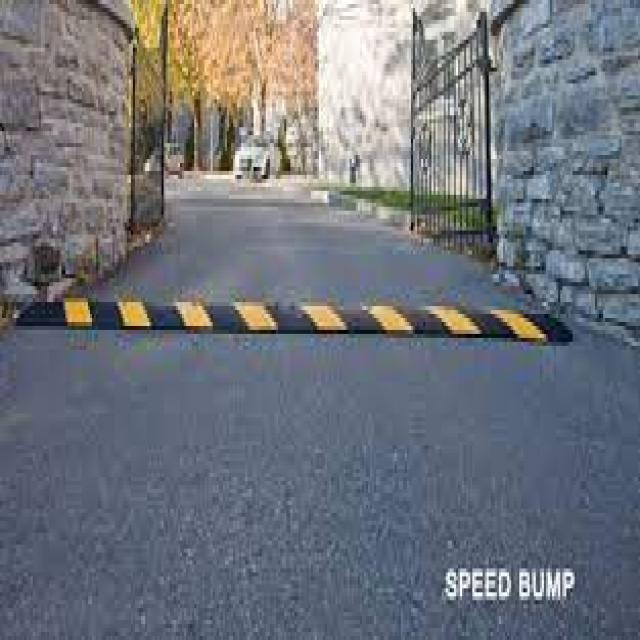Marked Bump: (50, 292, 585, 353)
